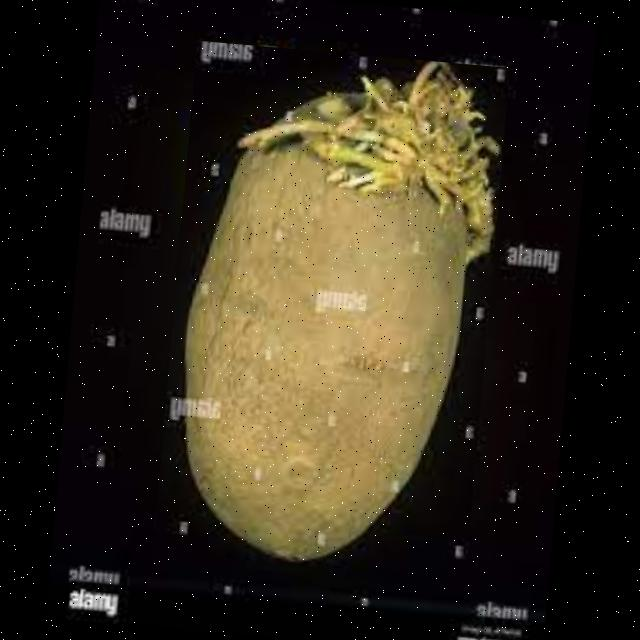Sprouted potato: (150, 39, 509, 586)
